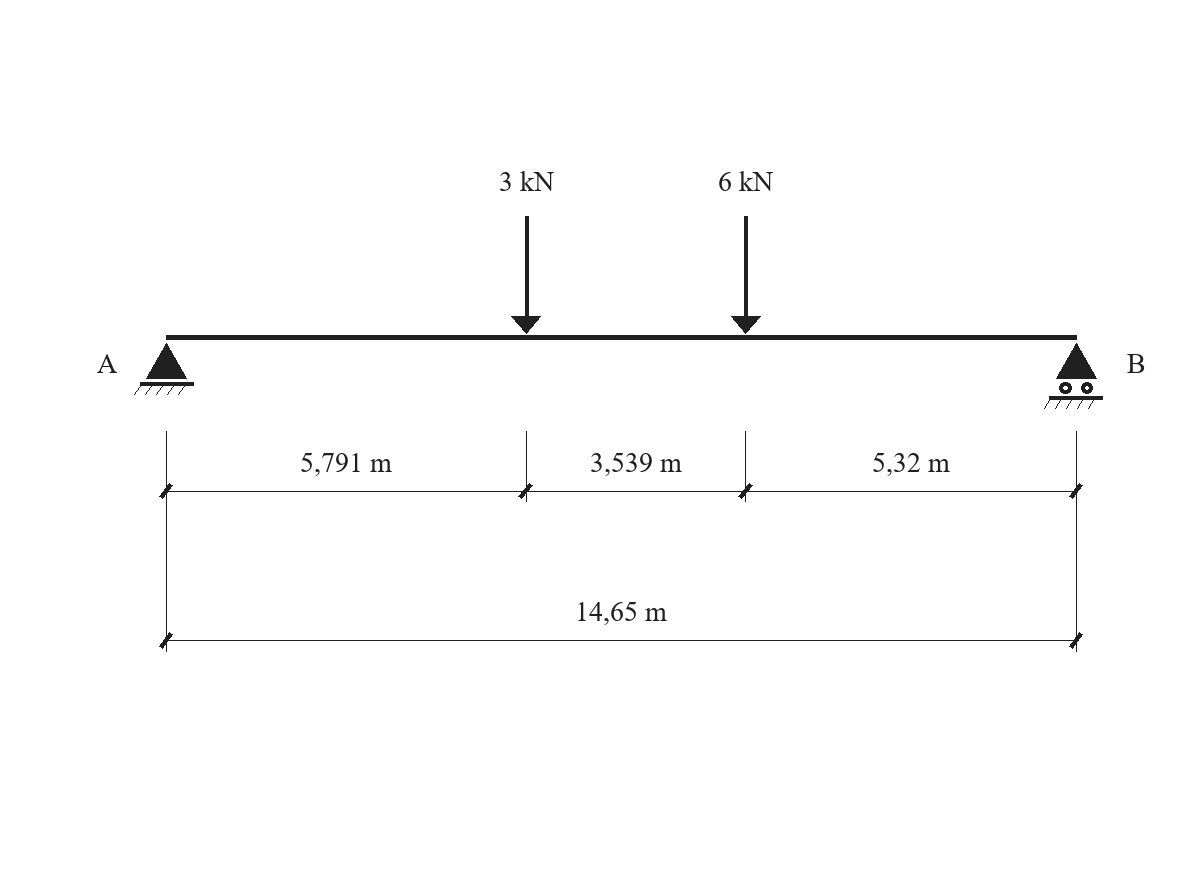pin_support: (134, 343, 194, 395)
point_load: (511, 216, 541, 334), (731, 216, 761, 334)
roller_support: (1044, 343, 1103, 409)
